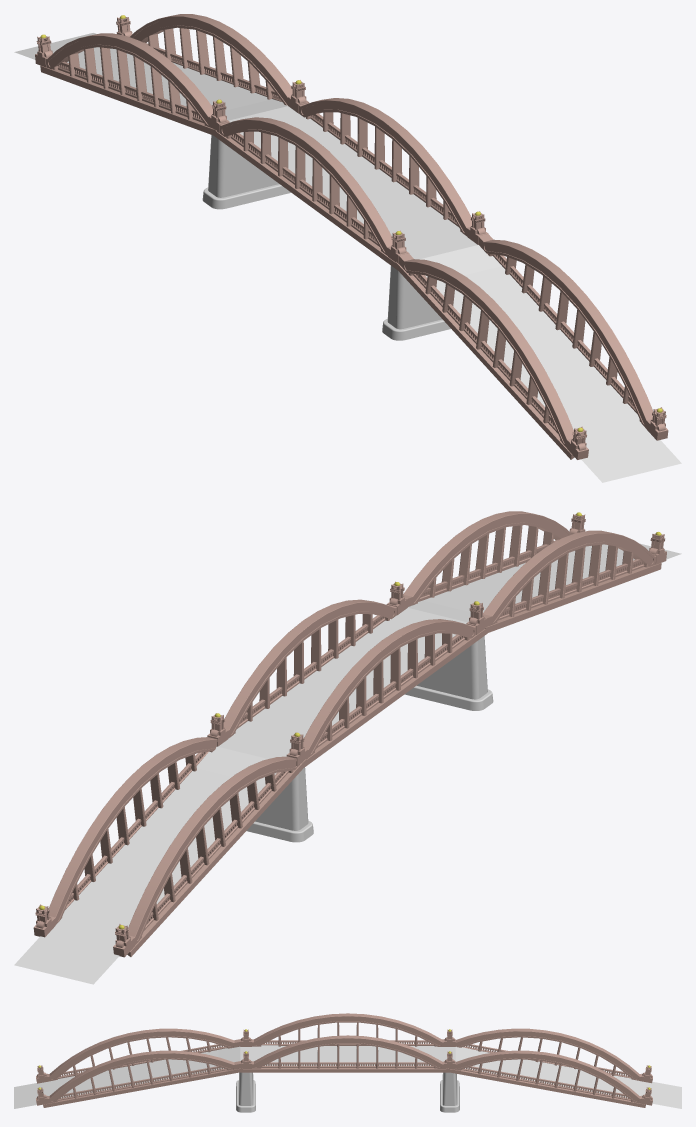
The model's file is köprü_2.fbx.
3 renders of one model, top to bottom at view 1: azimuth 30°, elevation 25°; view 2: azimuth 150°, elevation 25°; view 3: azimuth 270°, elevation 25°, orthographic. The views are drawn at different scales.
Visible parts, largest first — view 1: Object_7, Plane, Object_14; view 2: Object_7, Plane, Object_14; view 3: Object_7, Plane, Object_14.
Boxes of the visible parts, x1,y1,x2,y2 form: Object_7: (35, 14, 668, 459); Plane: (14, 33, 681, 482); Object_14: (202, 135, 450, 340); Object_7: (33, 511, 666, 957); Plane: (14, 543, 681, 984); Object_14: (247, 636, 493, 842); Object_7: (36, 1013, 652, 1107); Plane: (14, 1045, 681, 1108); Object_14: (236, 1072, 459, 1112).
Bounding box in the file's own units: 4904 × 5850 × 48750.
